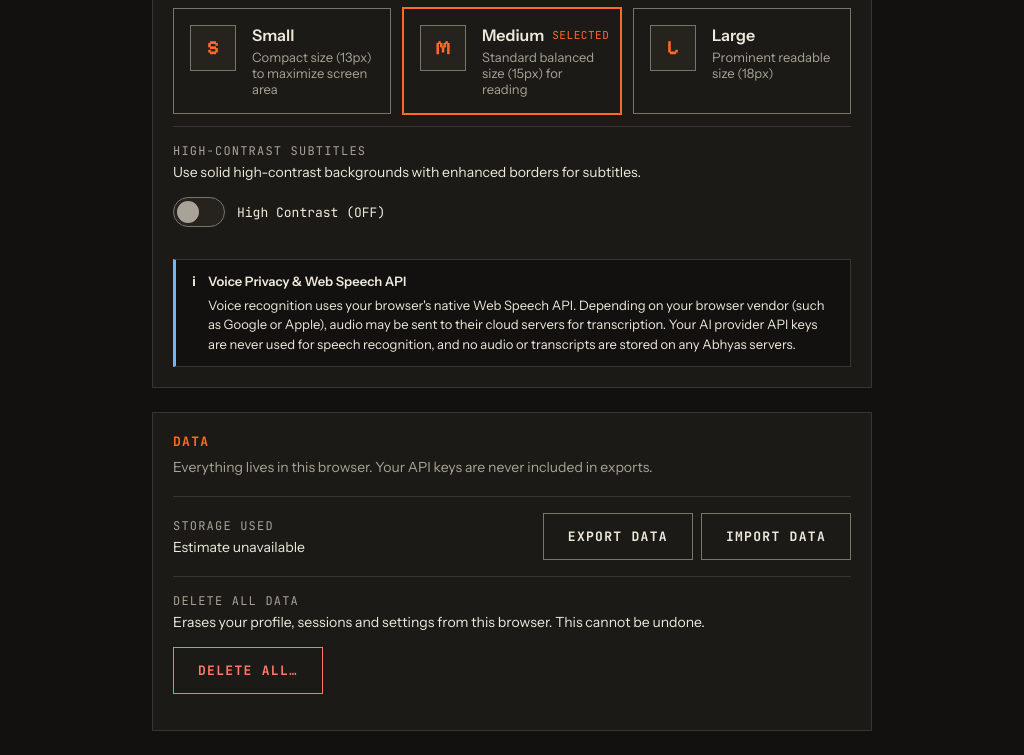
Test: M1.1: Settings screen › downloads an export file that validates against the export schema
(page scrolled)
Step 1. Click the button "Export data" → point(618, 537), box [543, 513, 693, 560]
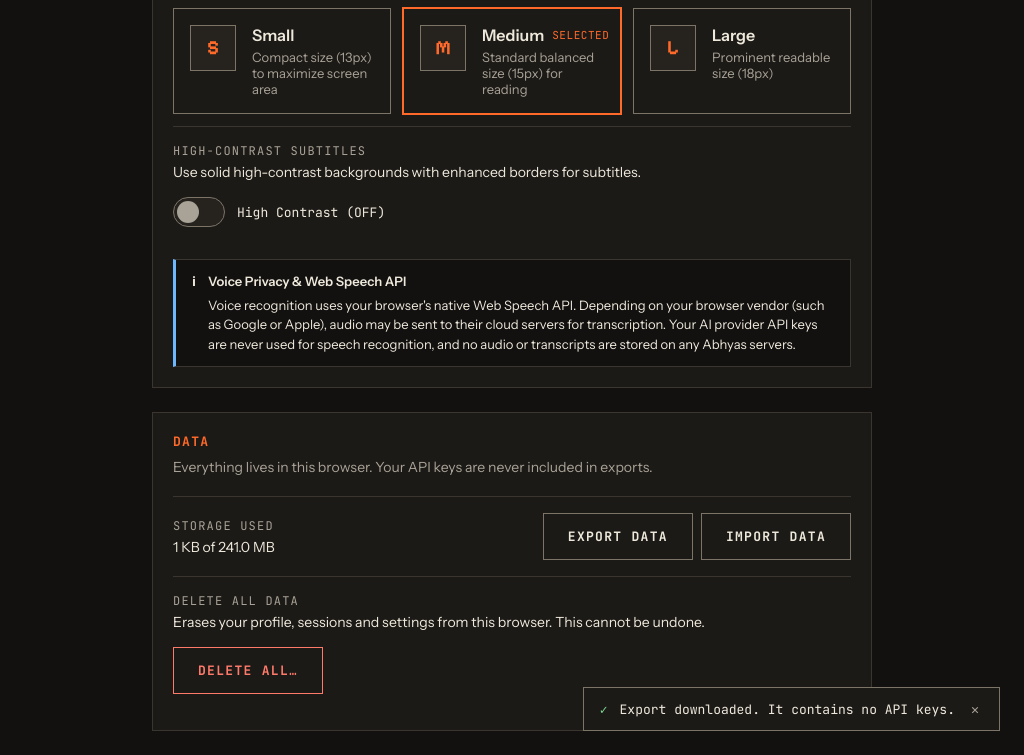
Expected: the text "Export downloaded. It contains no API keys." is shown, [620, 700, 955, 718]
